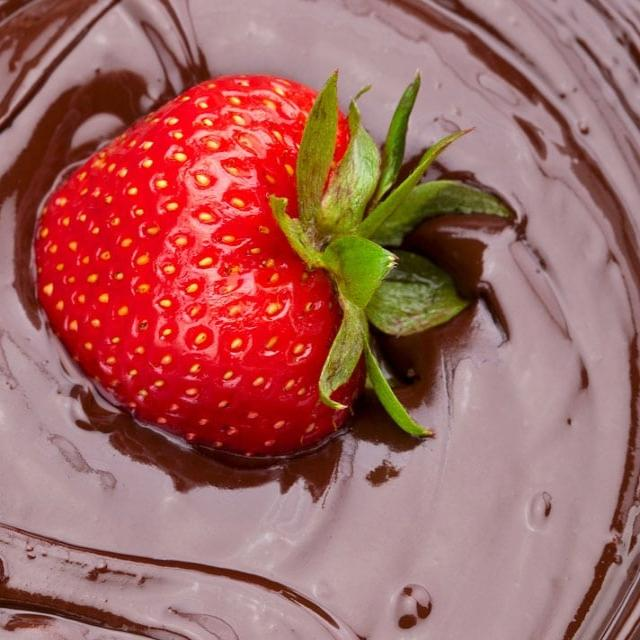strawberry: (16, 59, 513, 489)
